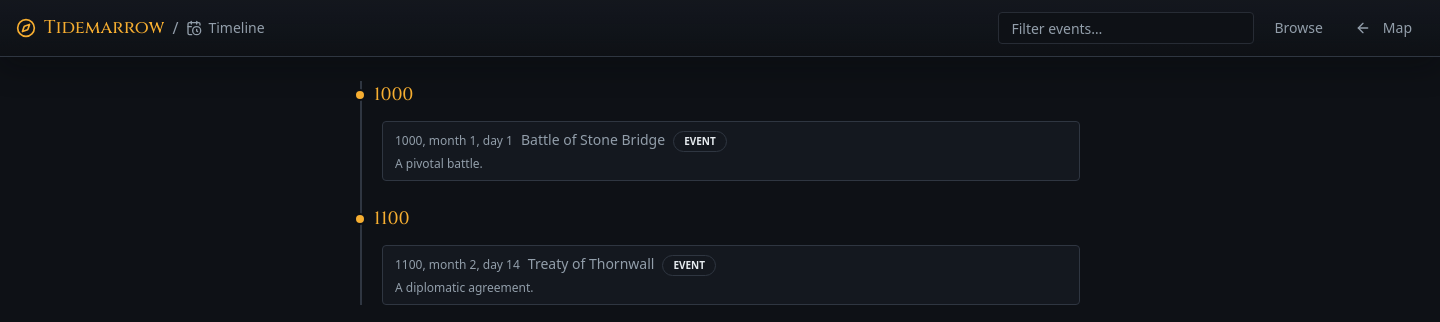
Test: AtlasTimeline — URL filter state › updating the filter input keeps the view consistent
Check: the text "Battle of Stone Bridge" is shown, box [521,130,665,150]
Step 1. Type "Treaty" into the field with placeholder "Filter events…" → (1126, 28), box [998,12,1254,44]
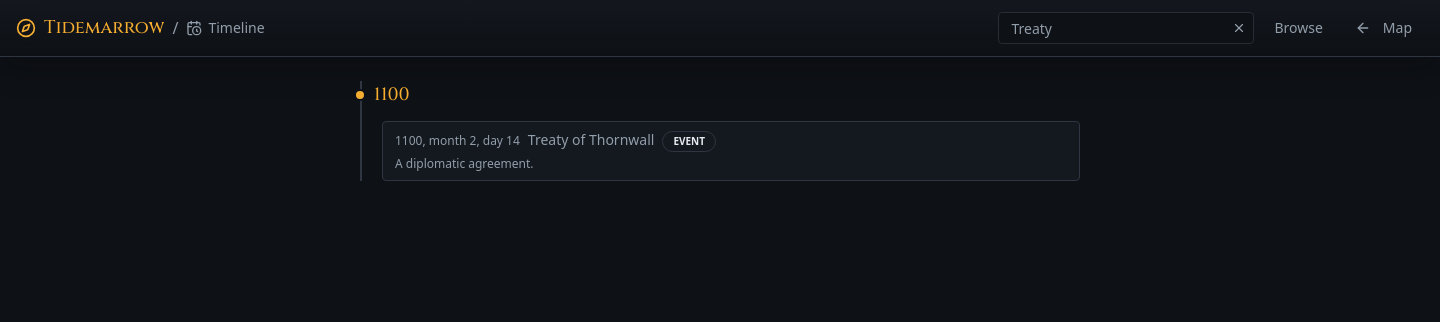
Check: the text "Treaty of Thornwall" is shown, box [528,130,654,150]
Check: the link "Battle of Stone Bridge" is gone
